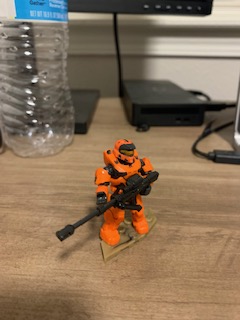spartan: (95, 138, 153, 247)
